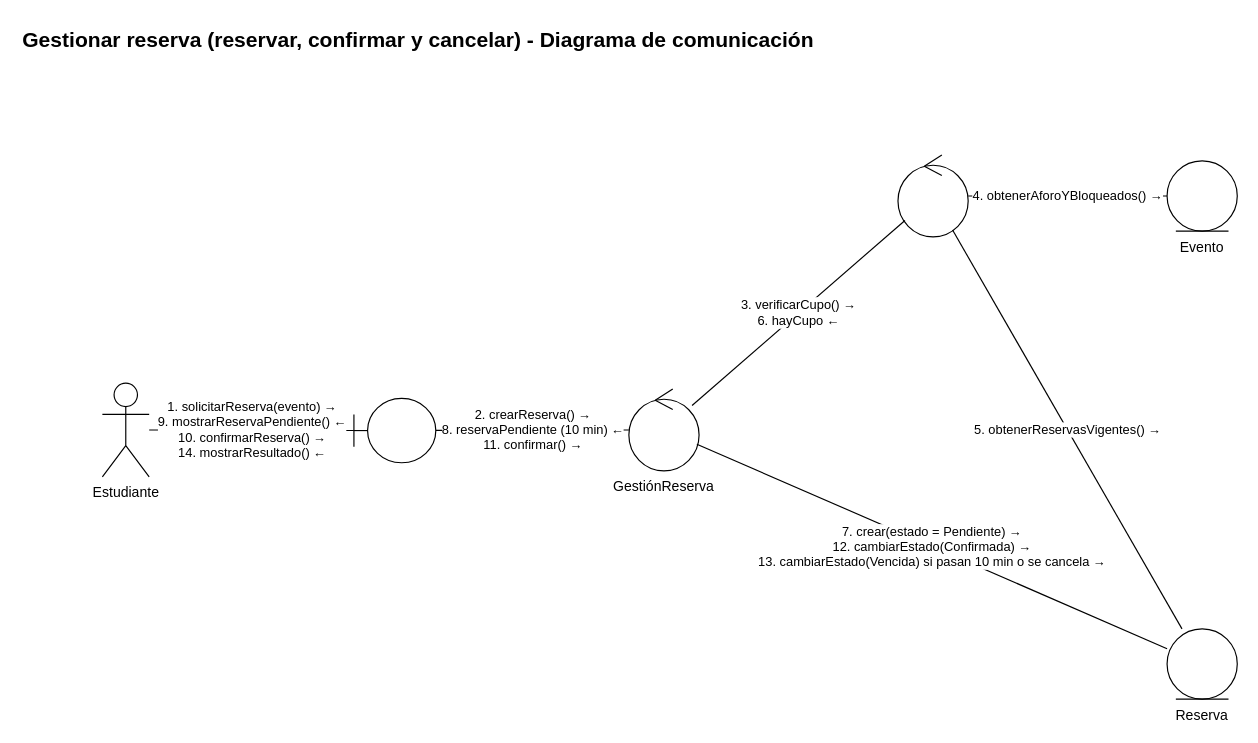
The diagram is 1258 pixels wide and 743 high, and some of its shapes have lost their labels. The shapes that lost their labels are listed below. From the top down, each one's centre as x and y in pixels, then its label:
At point (932, 195): "CalcularDisponibilidad".
At point (394, 430): "PantallaEventos".
